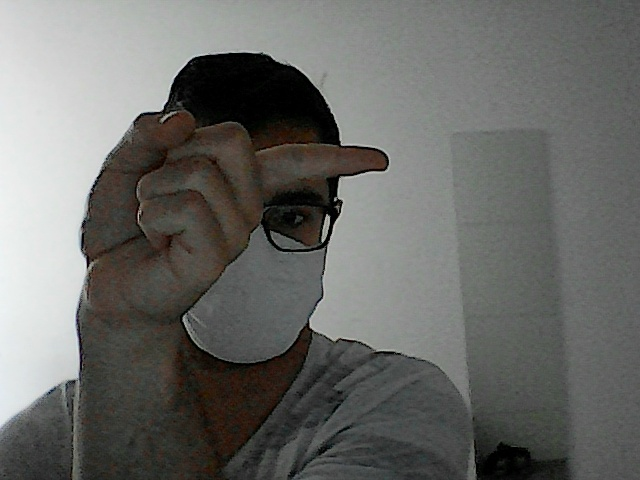left: (65, 102, 395, 321)
